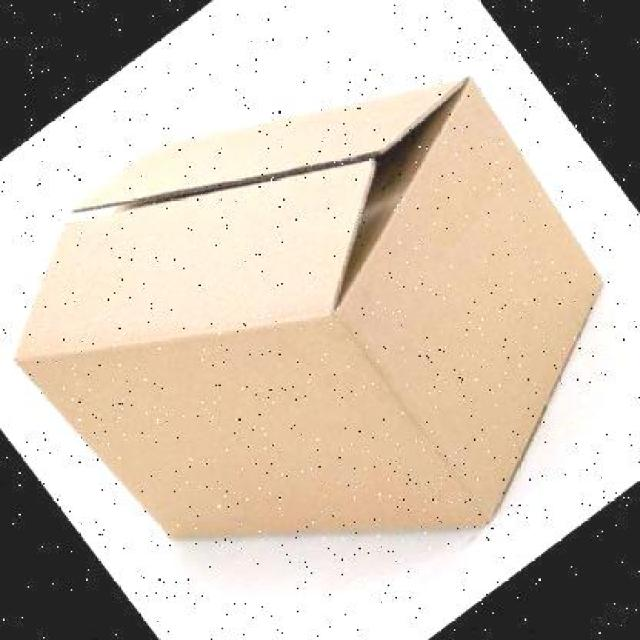box: (12, 76, 604, 540)
opened: (13, 78, 471, 363)
